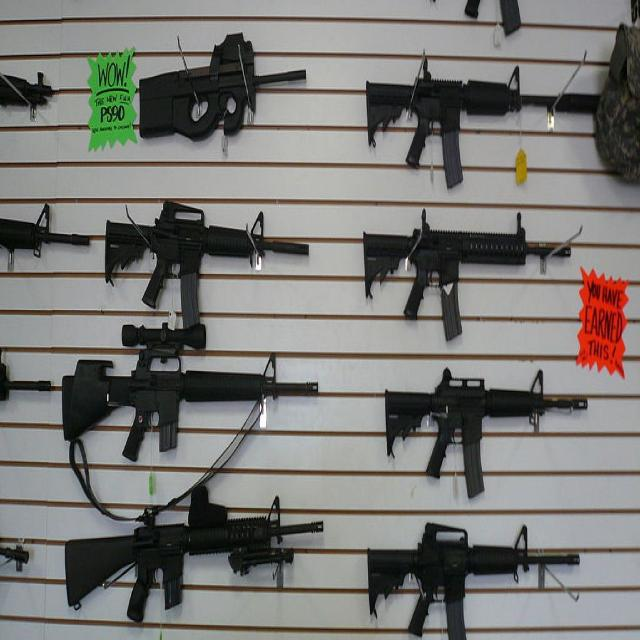Rifle: (62, 322, 319, 520), (64, 487, 314, 624), (363, 210, 572, 344), (385, 369, 589, 502), (367, 56, 563, 192), (105, 202, 310, 330), (367, 524, 581, 640)
SMG: (137, 32, 307, 142)
